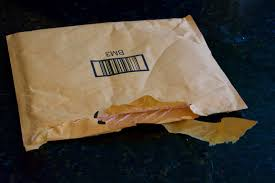damaged package: (86, 87, 204, 136)
